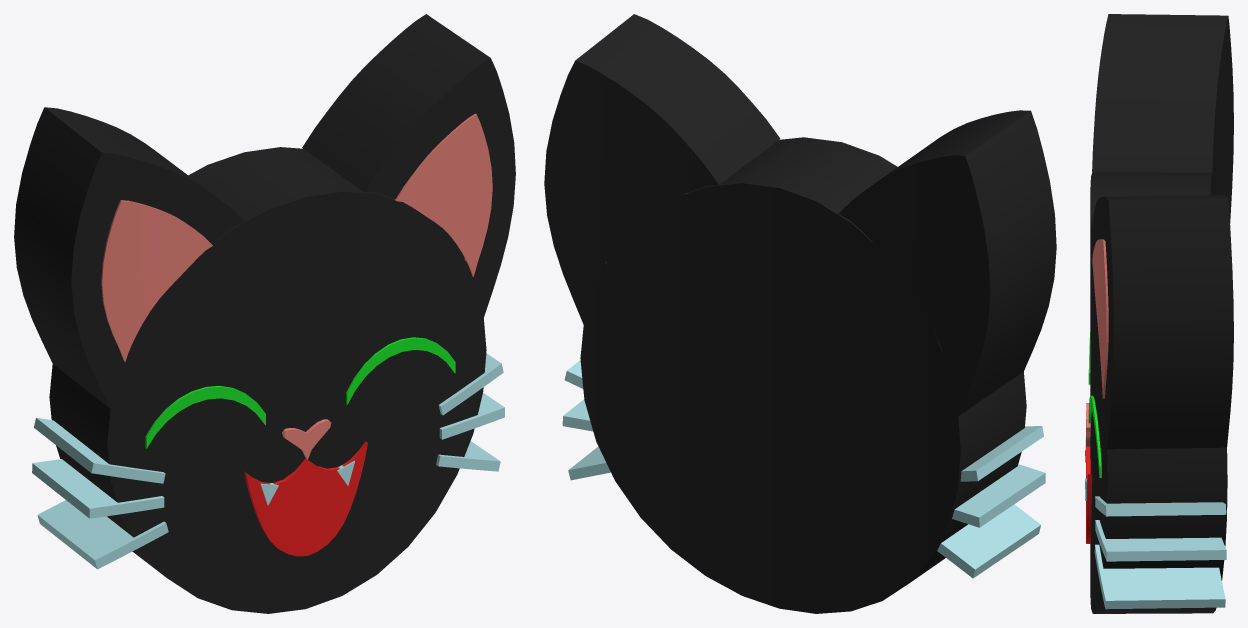
Rendered from Cat_Outer.fbx.
3 renders of one model, left to right at view 1: azimuth 30°, elevation 25°; view 2: azimuth 150°, elevation 25°; view 3: azimuth 270°, elevation 25°, orthographic. The views are drawn at different scales.
Parts seen in each view (by area): view 1: Cat_Outer; view 2: Cat_Outer; view 3: Cat_Outer.
Boxes of the visible parts, left/top/right/bottom form: Cat_Outer: left=14, top=14, right=515, bottom=613; Cat_Outer: left=544, top=14, right=1056, bottom=613; Cat_Outer: left=1085, top=14, right=1233, bottom=613.
Size of the model in its own units: 32.25 by 34.44 by 9.54.
